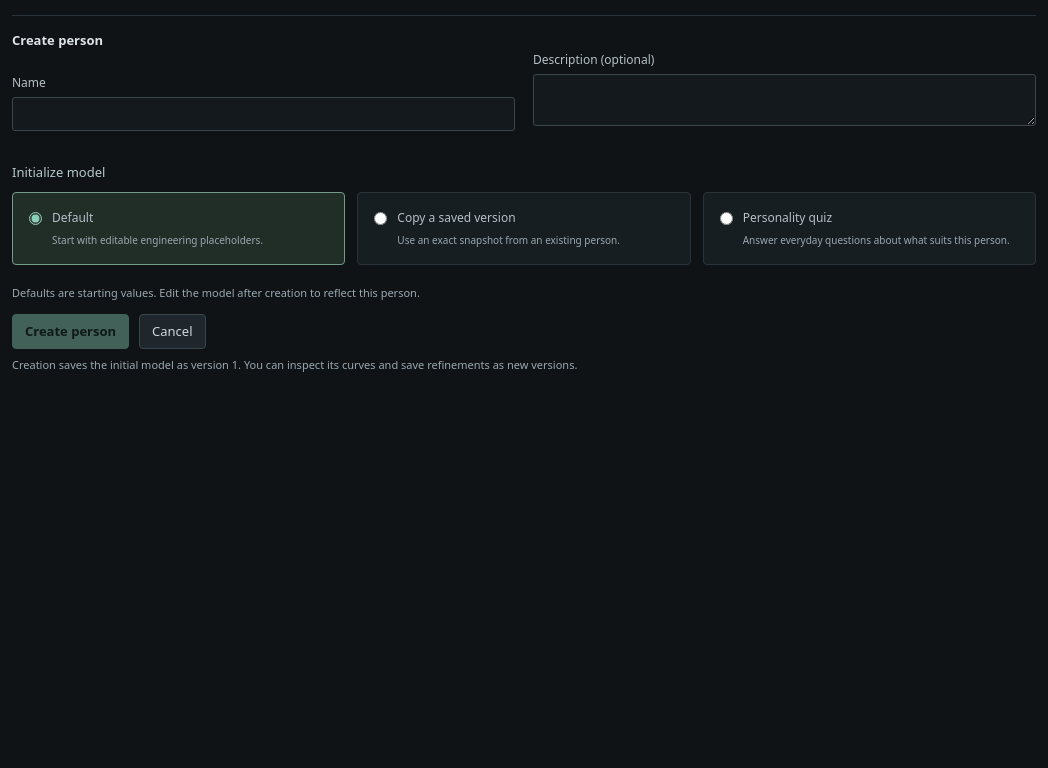
person initialization choices › ignores a delayed preview after returning to the questionnaire
The width and height of the screenshot is (1048, 768).
Type "New person" into the field labelled "Name".
click(264, 114); type("New person")  # box [12,96,515,130]
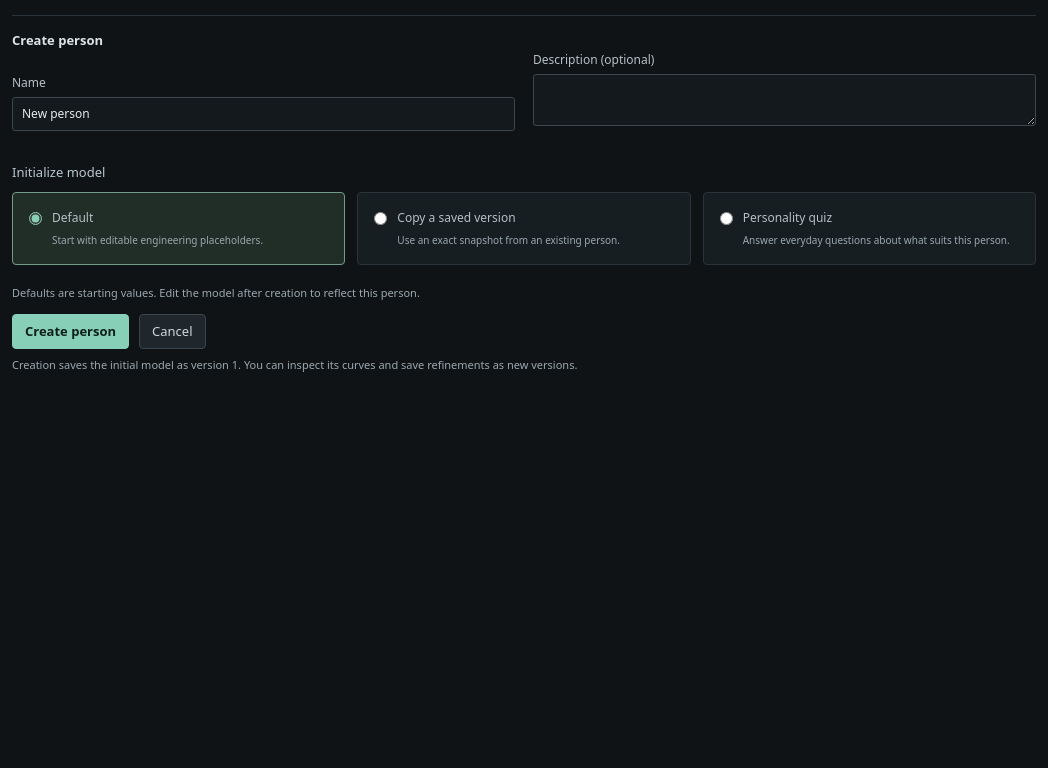
Click the radio button labelled "Personality quiz".
click(726, 218)  # box [720,212,733,225]
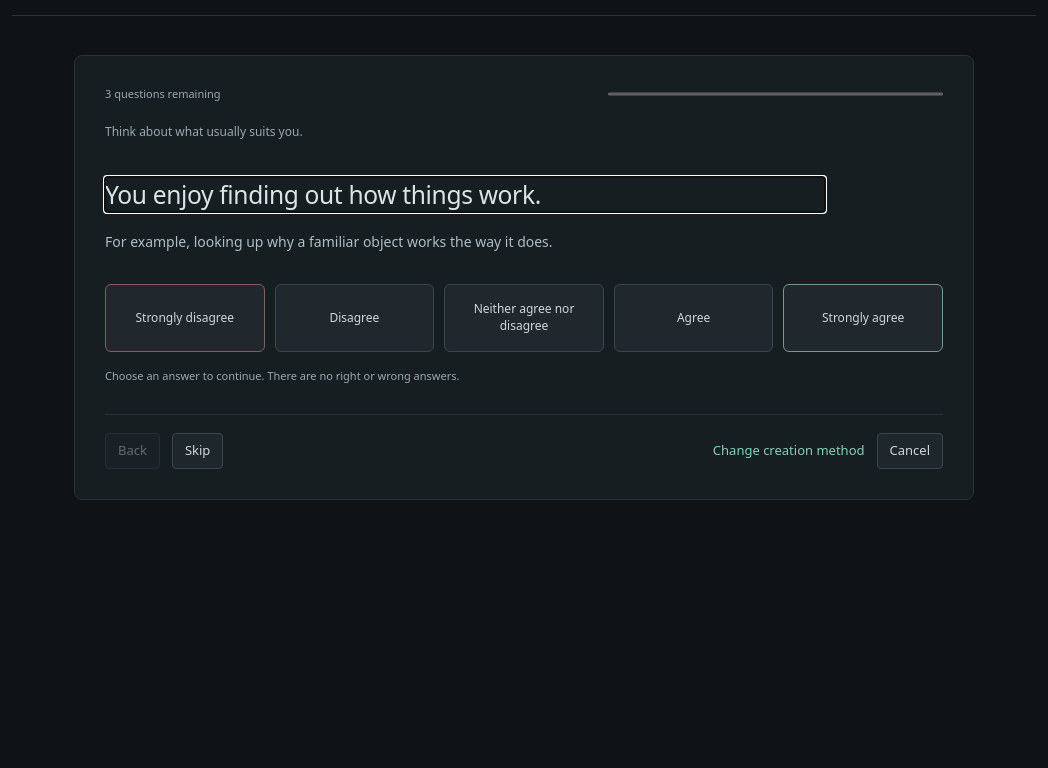
Expected: the heading "You enjoy finding out how things work." is shown, [105,178,541,210]
Click the button "Skip".
click(198, 451)  # box [172,433,223,469]
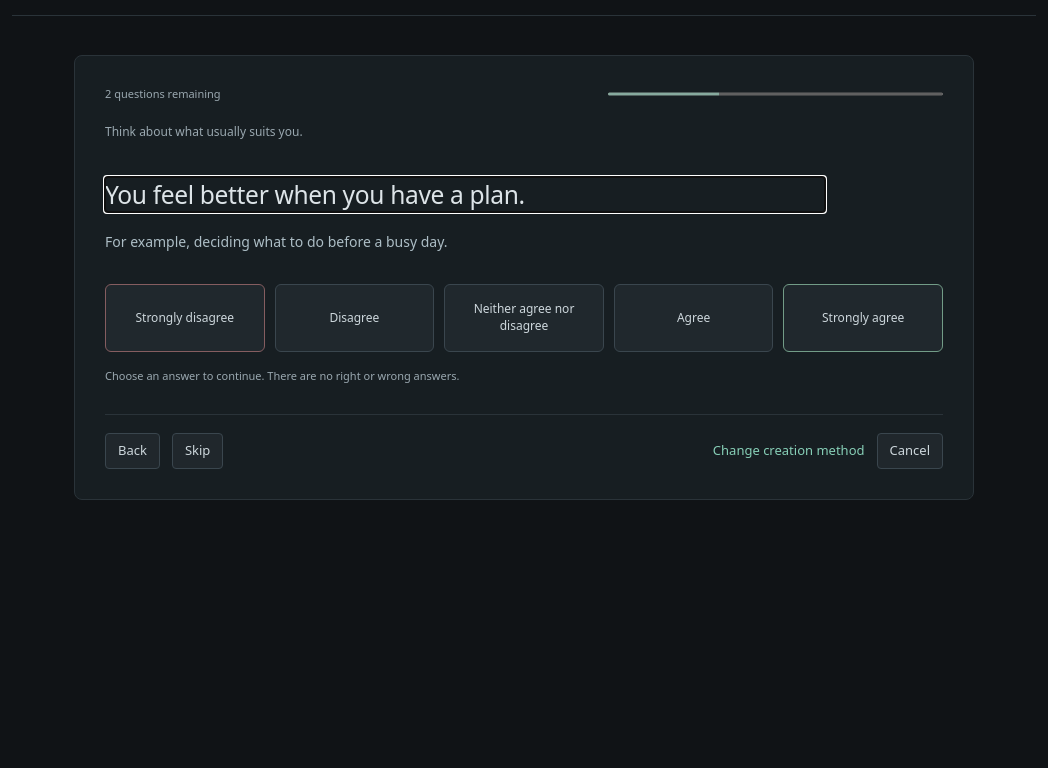
Click the button "Skip".
click(198, 451)  # box [172,433,223,469]
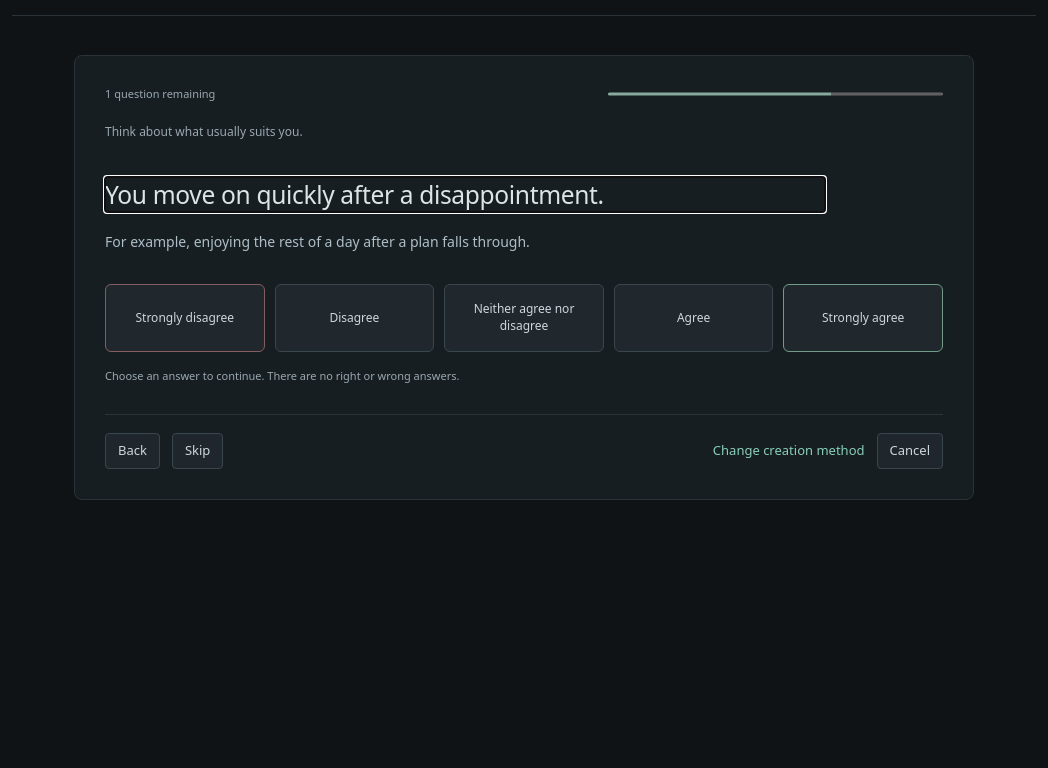
Click the button "Skip".
click(198, 451)  # box [172,433,223,469]
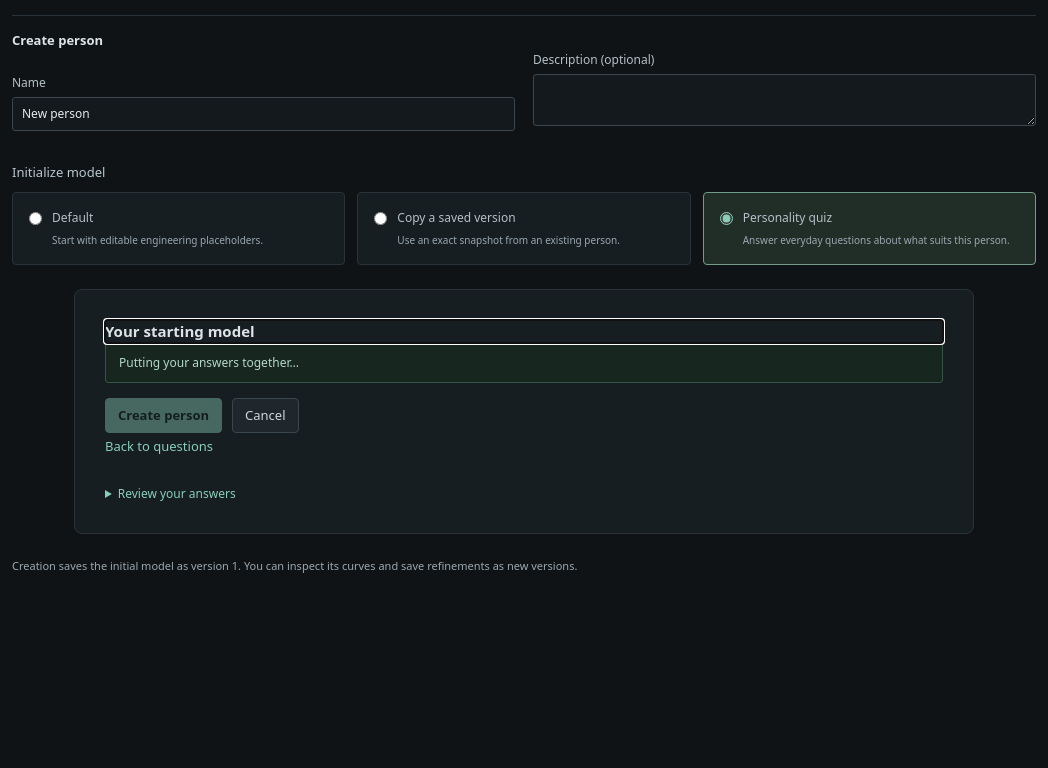
Click the button "Back to questions".
click(159, 447)  # box [105,433,213,460]
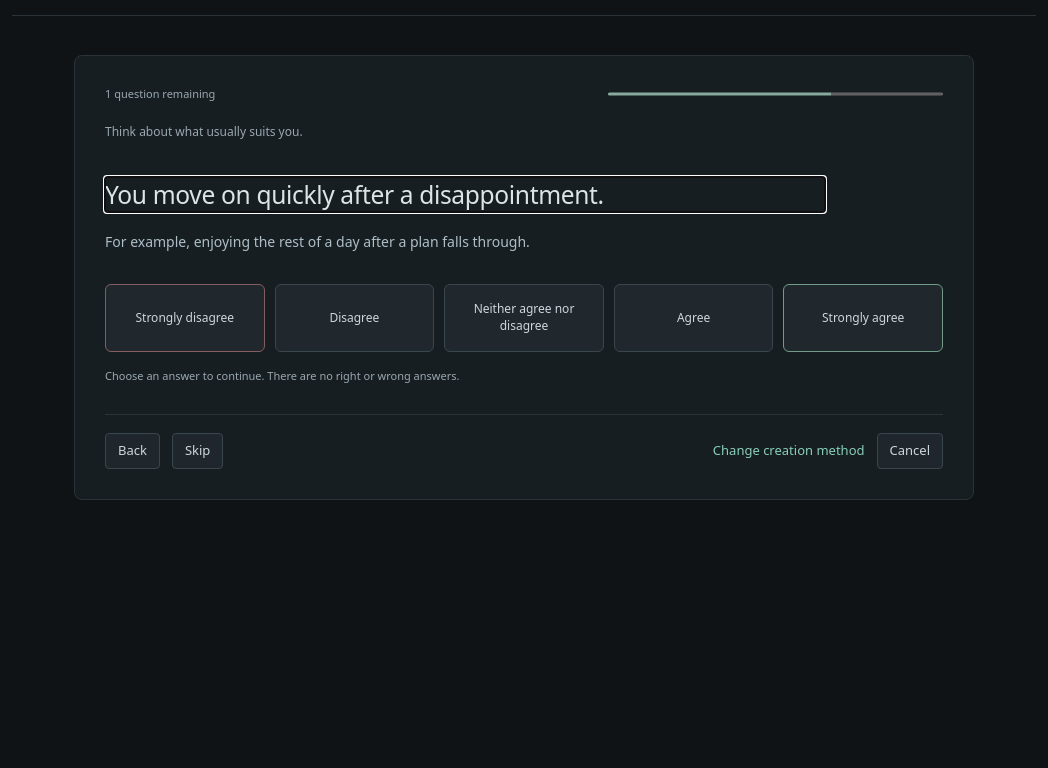
Expected: the heading "You move on quickly after a disappointment." is shown, [105,178,604,210]
Expected: the heading "Create person" is gone
